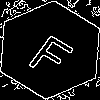F: (25, 25, 82, 80)
